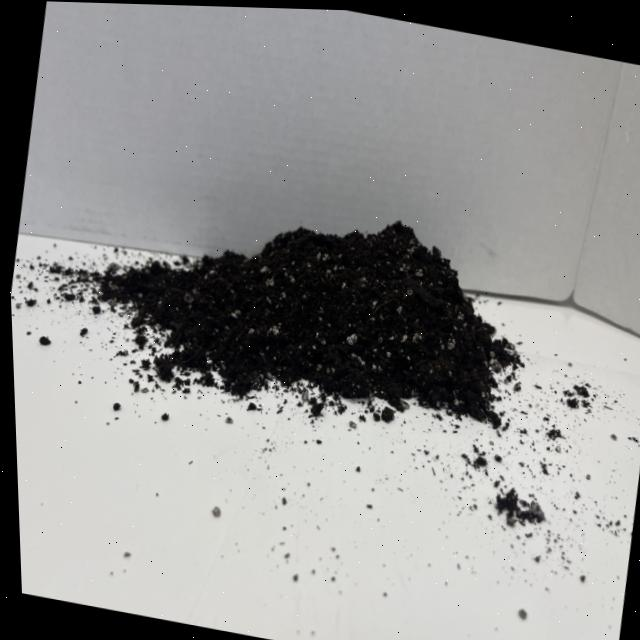soil: (75, 162, 540, 452)
